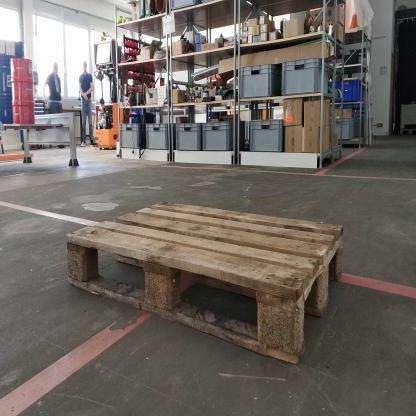BoxFace: (63, 197, 346, 370)
